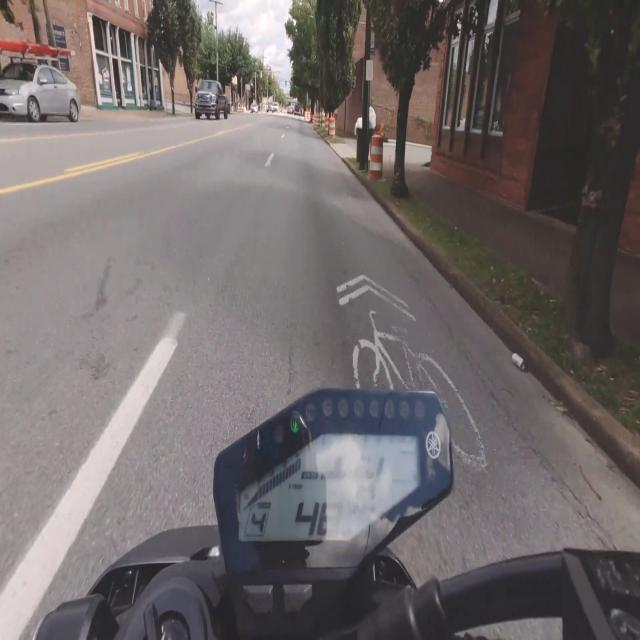car: (0, 61, 80, 122), (195, 80, 229, 119), (294, 105, 302, 116), (250, 103, 258, 113)
motorcycle: (35, 390, 639, 639)
